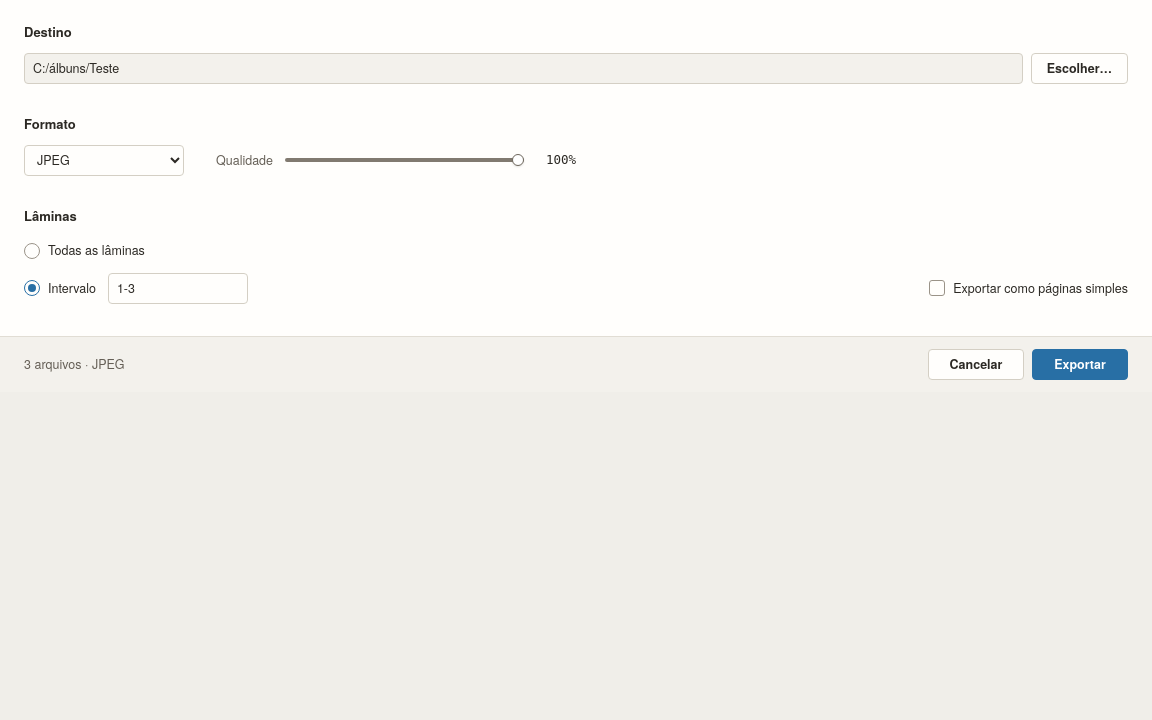
rejects an invalid interval 3-2
Replace the text in the field named "Lâminas do intervalo" with "3-2" at point(178, 288), box [108,273,248,304]
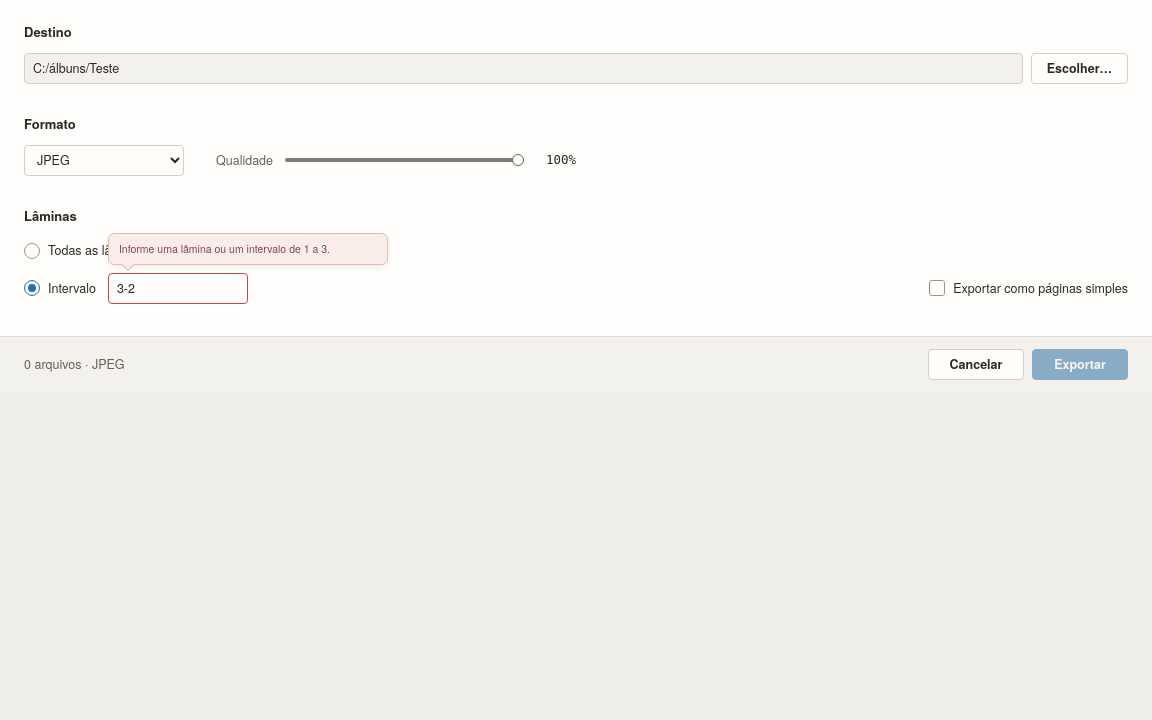
Now the button "Exportar" is disabled, box [1032,349,1128,380]
